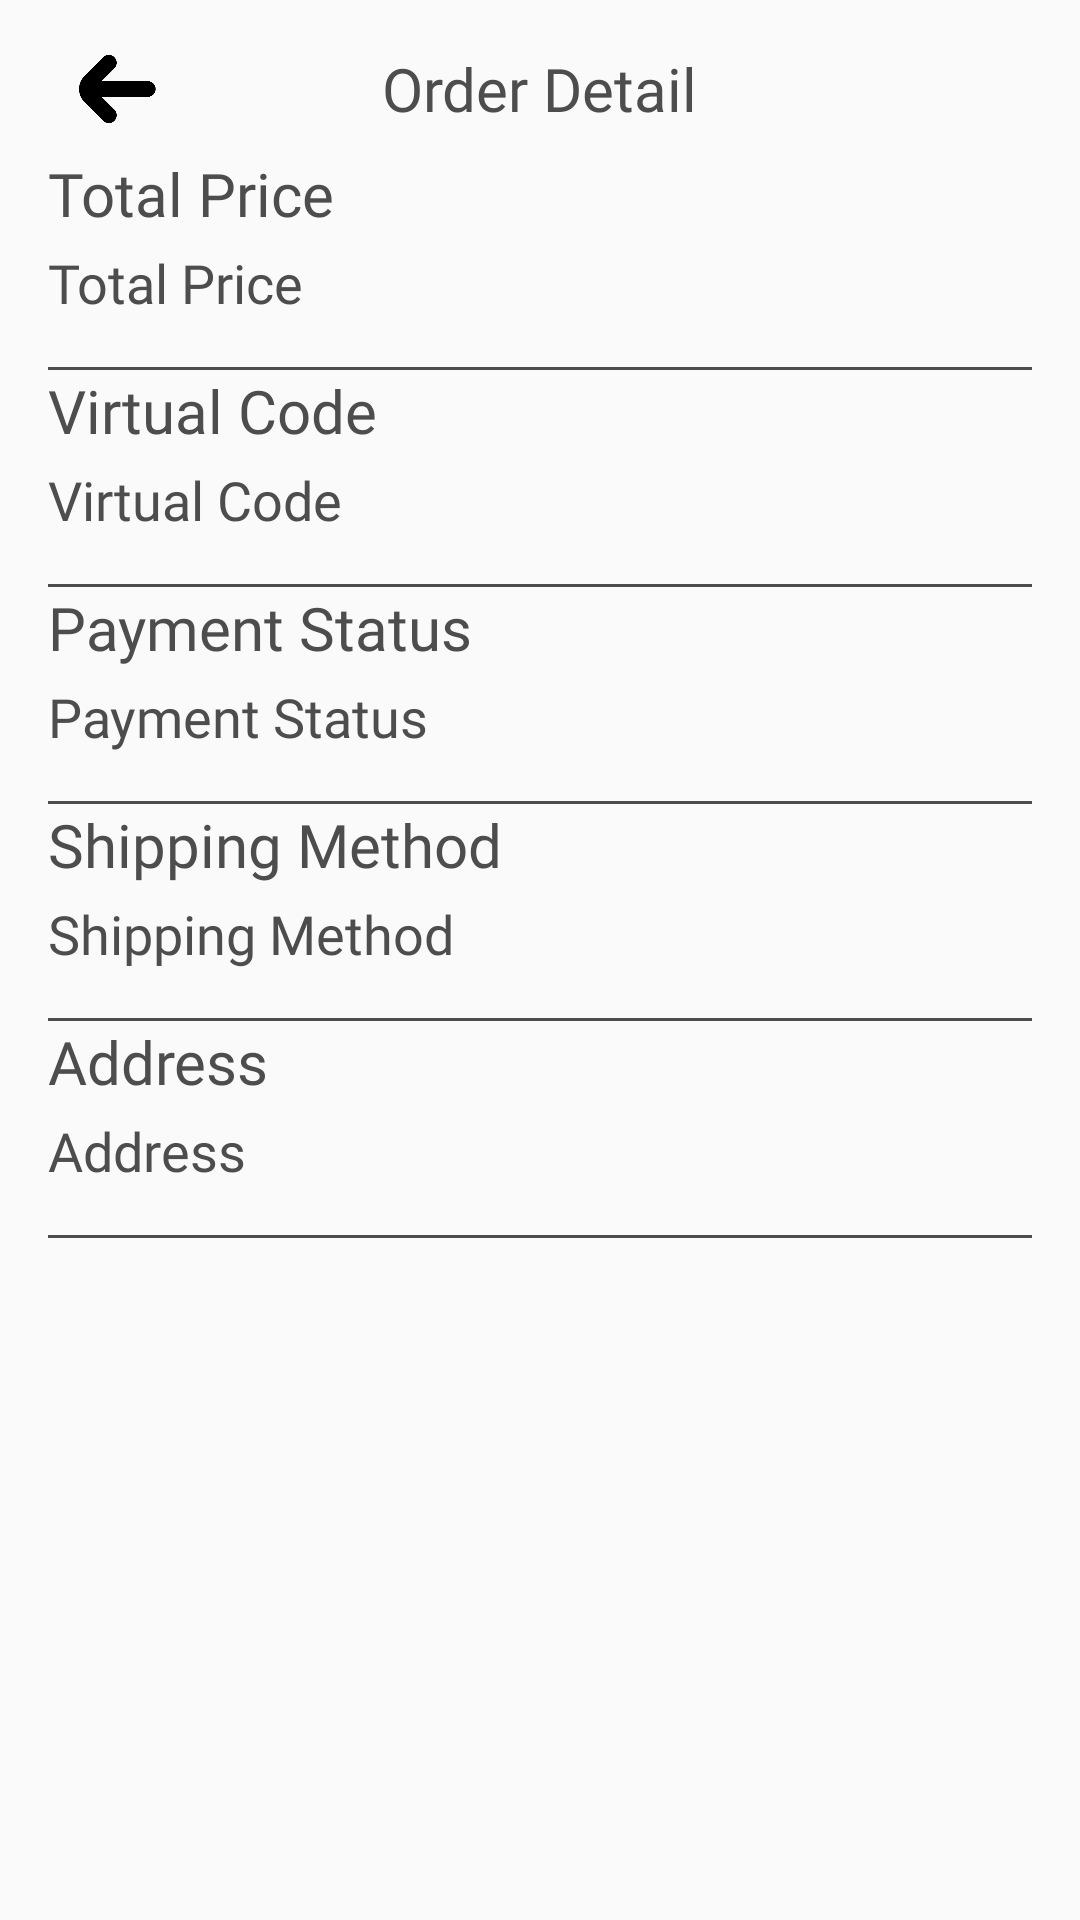

Screen size 1080*1920. Icon name, then its center in pixels as (x=x, y=y):
back: (x=117, y=89)
